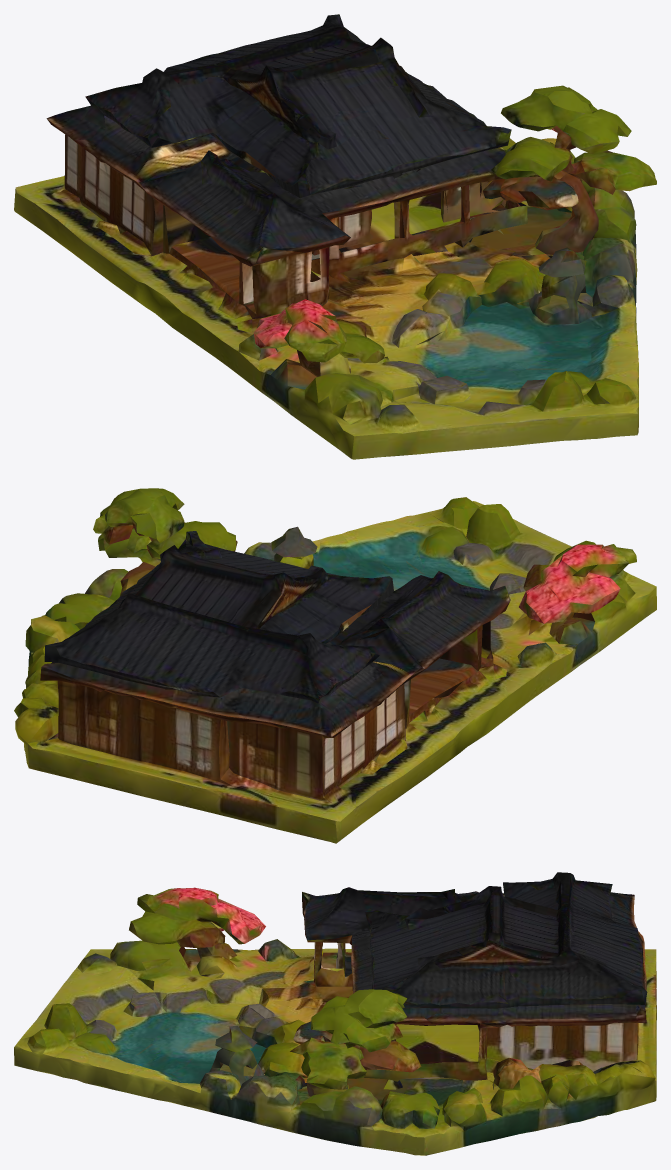
The model's file is sengan-en.glb.
3 views of the same model, one above another, from view 1: azimuth 30°, elevation 25°; view 2: azimuth 150°, elevation 25°; view 3: azimuth 270°, elevation 25° (orthographic). The views are drawn at different scales.
Parts seen in each view (by area): view 1: logan-textured.obj; view 2: logan-textured.obj; view 3: logan-textured.obj.
Part boxes in pixels (x1,y1,x2,y2): logan-textured.obj: (14,14,656,459); logan-textured.obj: (14,488,656,843); logan-textured.obj: (14,872,656,1155).
Bounding box in the file's own units: 0.7293 × 0.2526 × 1.
Materials: 1 (1 with a texture image).
